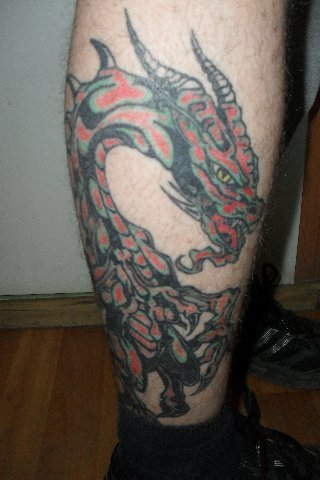tatu6_drakon: (51, 13, 262, 425)
